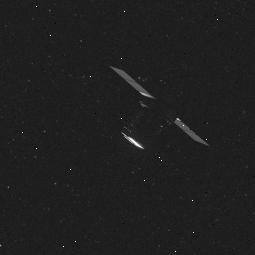soho: (109, 65, 217, 154)
